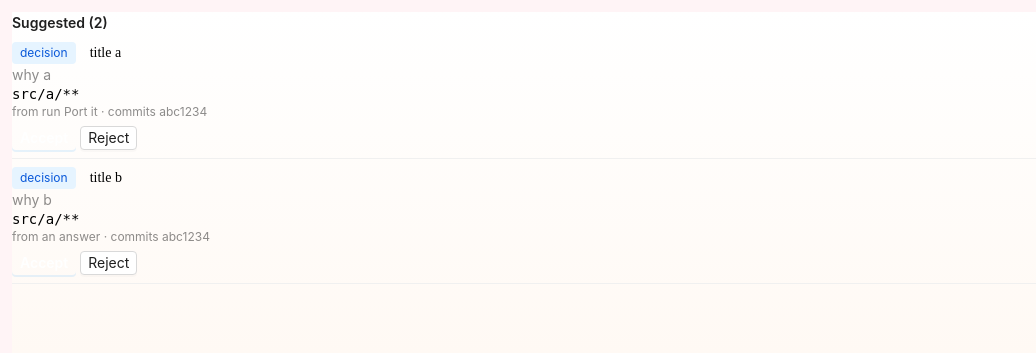
ProposalsQueue › a 409 shows the message and reloads
Click the button "Reject" below "from run Port it": (109, 138) [80, 126, 137, 150]
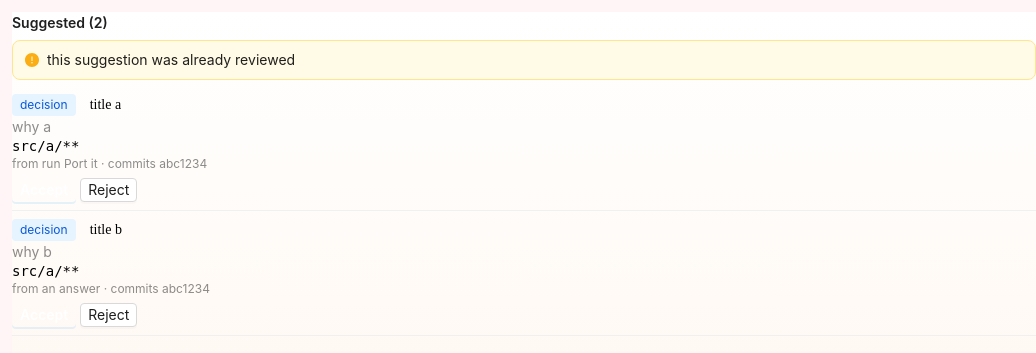
Expected: the message "this suggestion was already reviewed" is shown, [12, 40, 1035, 80]
